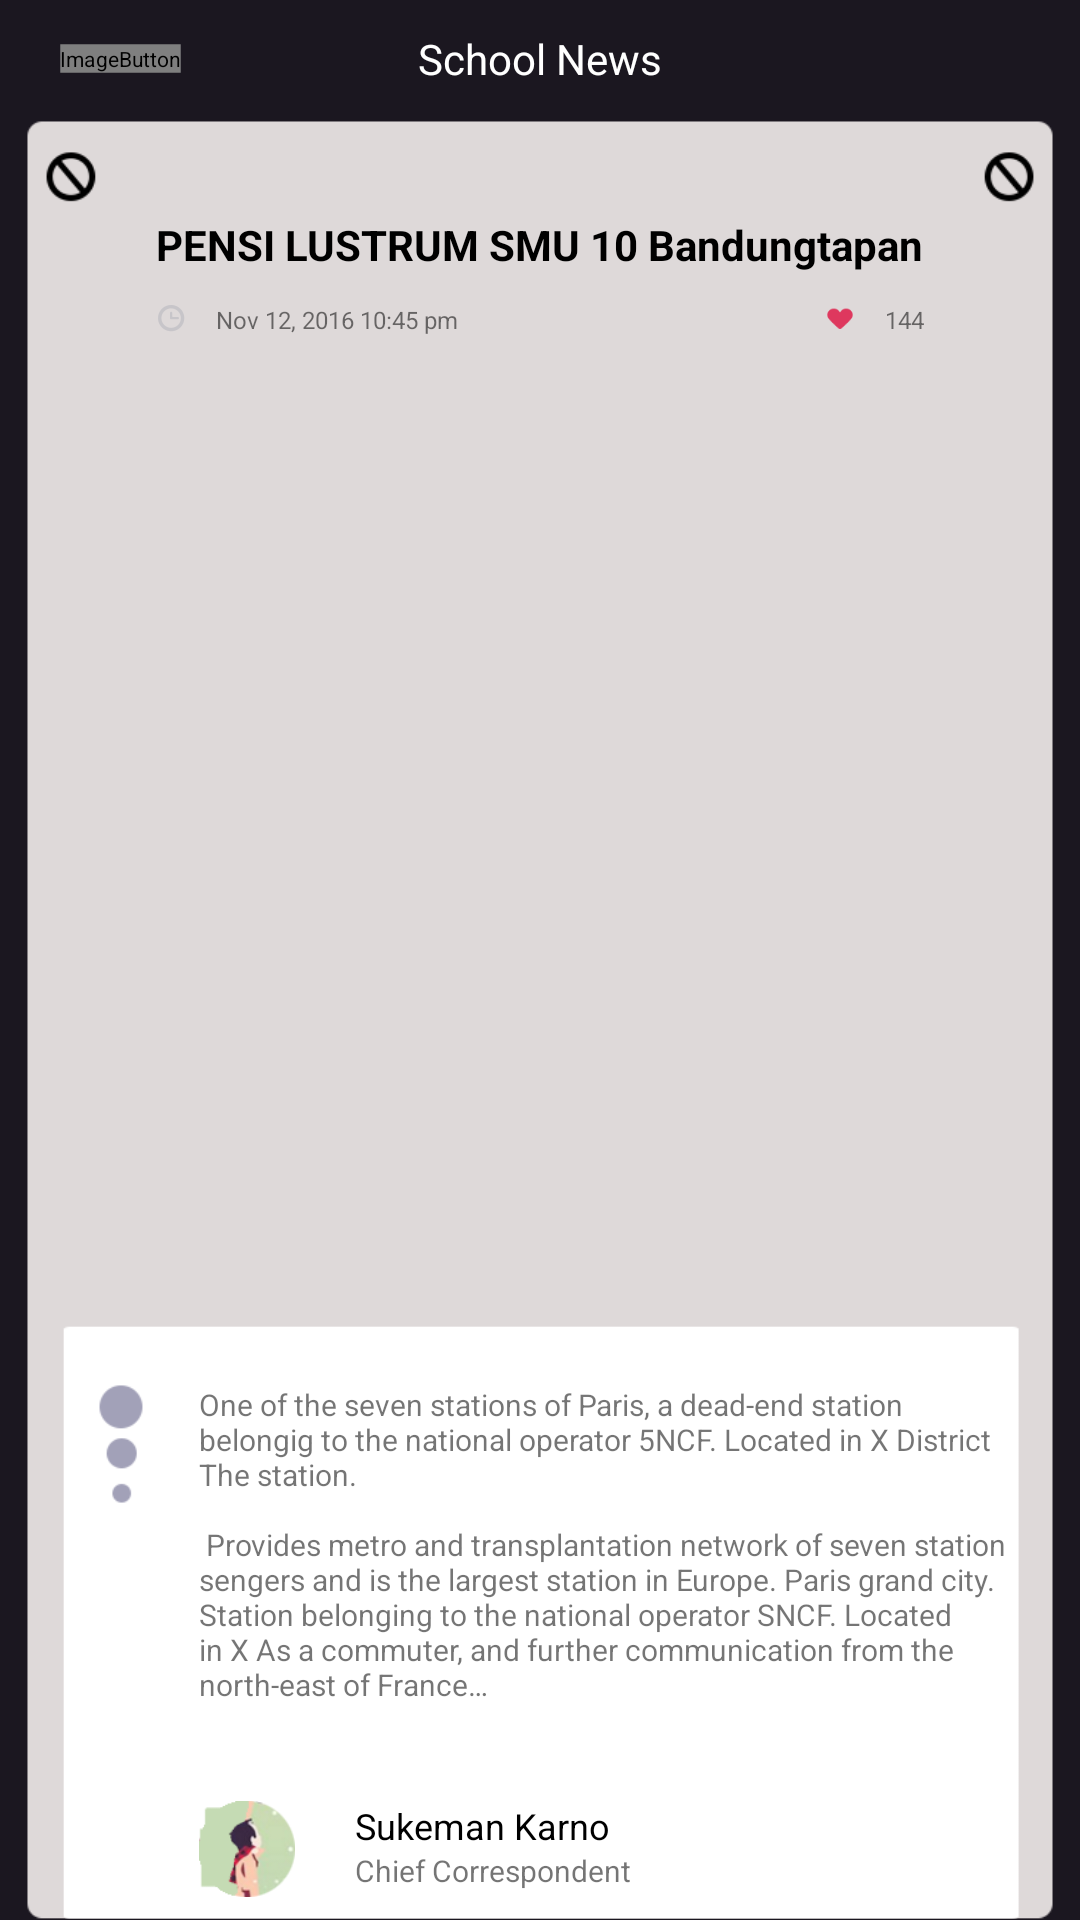

Icon bounding boxes for this 1080x1920 phone screenshot, format (x1, y1, x2, y2):
news article author: (199, 1801, 295, 1897)
news article favourite: (827, 308, 853, 329)
